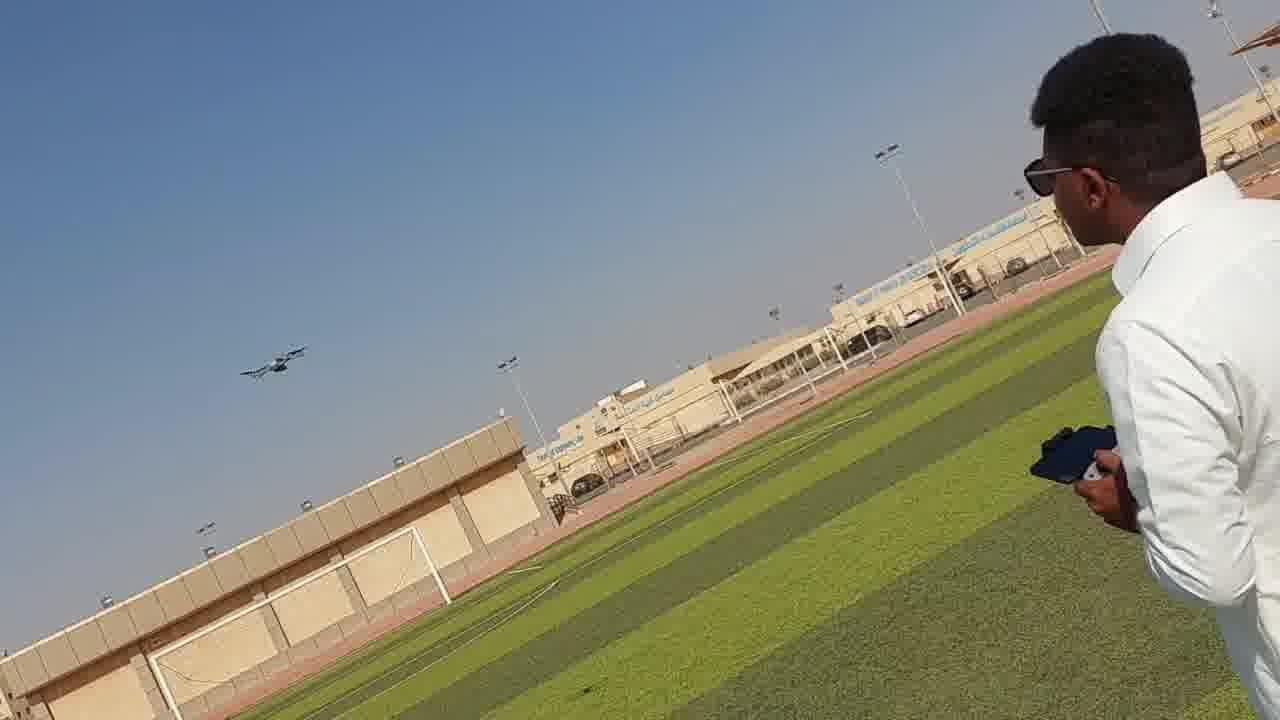drone: (233, 333, 311, 392)
